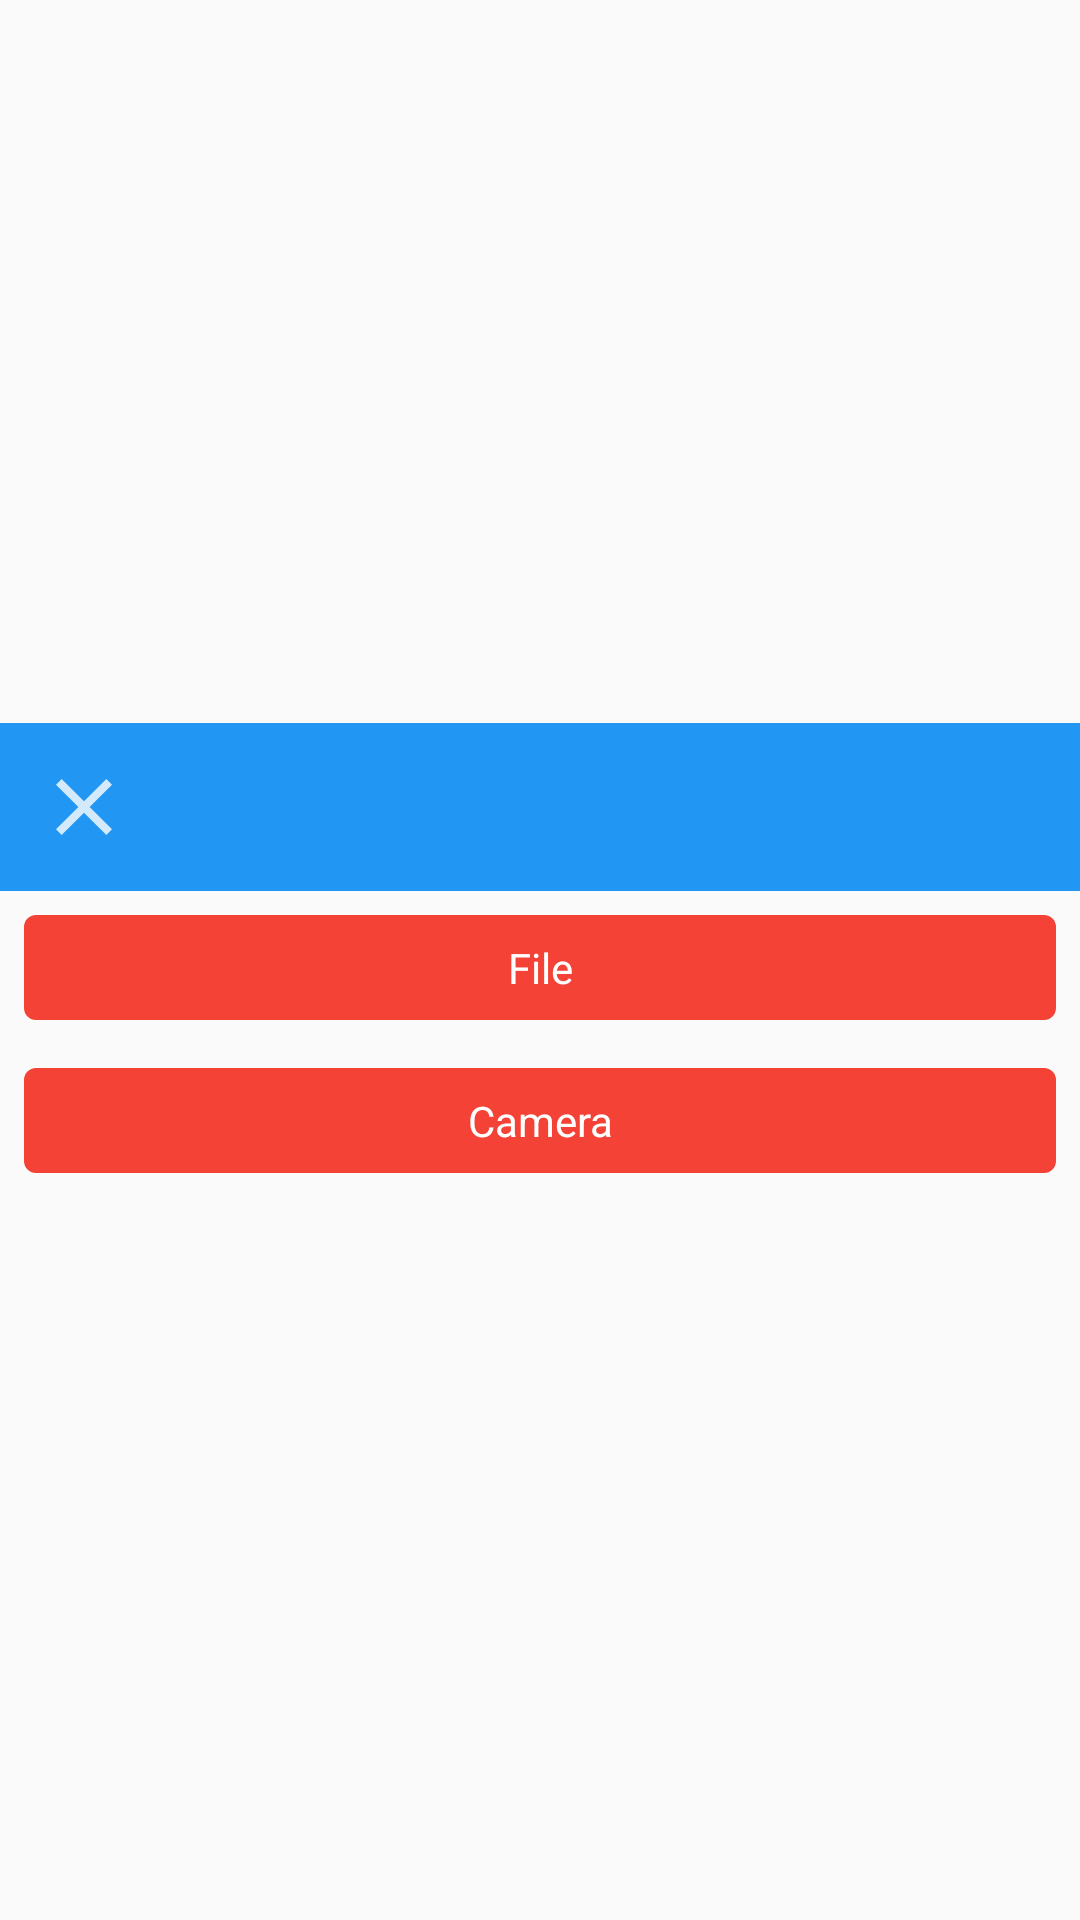

Locate icon controls on the screen. Image size 1080px×1920px, boxes as (x1=x1, y1=y1, x2=x2, y2=y2).
close: (x1=56, y1=779, x2=112, y2=835)
